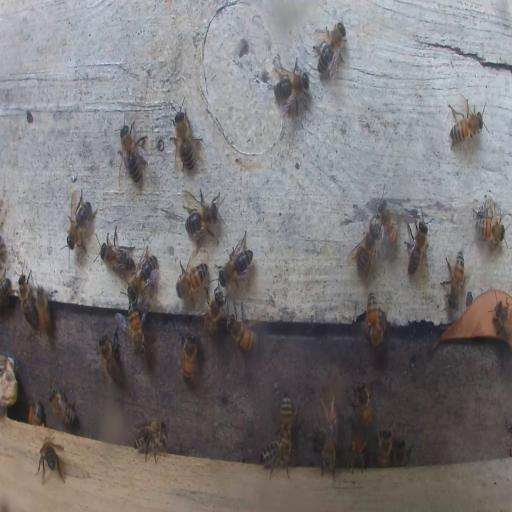bee: (182, 186, 222, 242), (117, 117, 149, 185), (271, 54, 311, 108), (65, 190, 98, 250), (172, 105, 200, 174), (219, 233, 254, 288), (348, 217, 380, 277), (314, 22, 347, 80), (404, 207, 429, 277), (132, 418, 168, 466), (99, 227, 133, 275), (258, 436, 296, 478), (128, 250, 156, 302), (473, 200, 504, 246), (448, 106, 483, 145), (36, 434, 64, 482), (374, 192, 398, 248), (97, 331, 122, 384), (444, 250, 466, 308), (16, 268, 36, 331), (48, 387, 77, 429), (226, 312, 258, 349), (176, 262, 208, 298), (350, 380, 374, 428), (126, 305, 147, 359), (204, 287, 226, 335), (366, 292, 384, 347), (321, 384, 338, 436), (181, 330, 198, 382), (349, 428, 369, 471), (279, 394, 295, 442), (319, 434, 336, 478), (37, 283, 51, 334), (492, 301, 511, 338), (376, 425, 392, 467), (27, 395, 44, 427), (394, 434, 410, 464), (1, 274, 14, 307)
